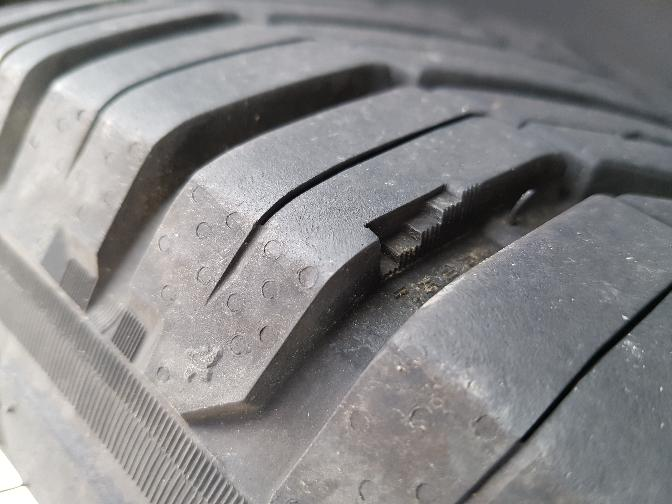temoin:90: (356, 175, 491, 289)
